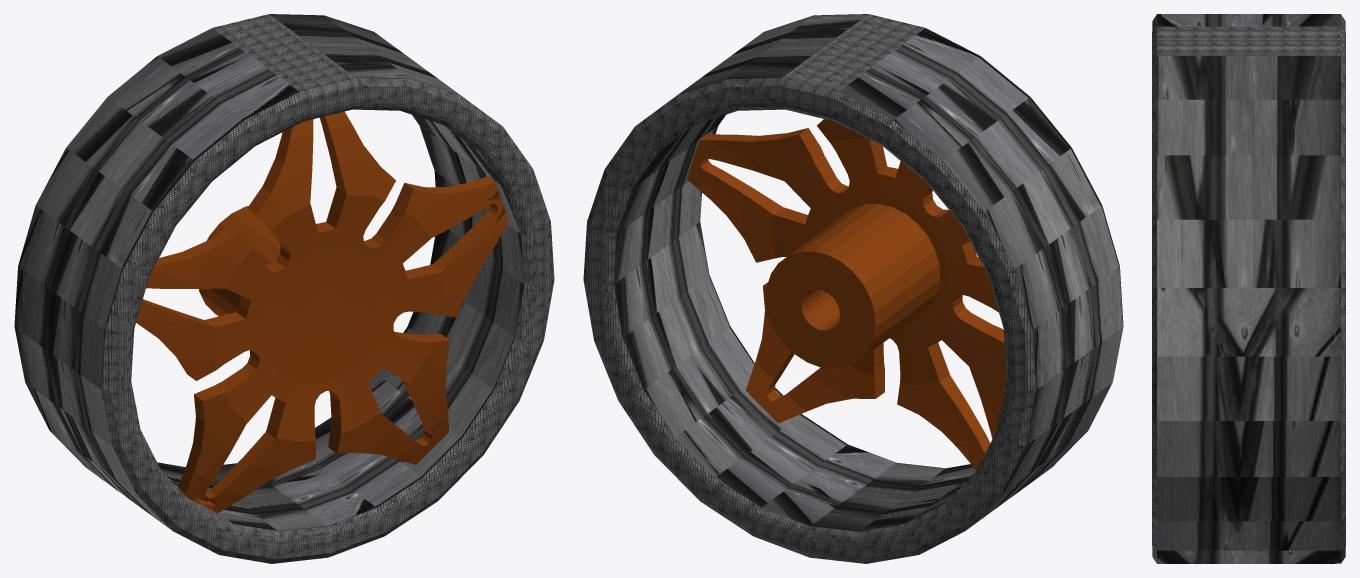
File: llantaADer.obj
3 views of the same model, side by side, from view 1: azimuth 30°, elevation 25°; view 2: azimuth 150°, elevation 25°; view 3: azimuth 270°, elevation 25° (orthographic). The views are drawn at different scales.
Visible parts, largest first — view 1: Mesh74, Mesh73; view 2: Mesh74, Mesh73; view 3: Mesh74.
Part boxes in pixels (box(x1,y1,x2,y2)): Mesh74: box(14, 14, 554, 563); Mesh73: box(136, 111, 508, 513); Mesh74: box(583, 14, 1123, 563); Mesh73: box(686, 119, 1006, 470); Mesh74: box(1152, 14, 1345, 563).
Size of the model in its own units: 30.69 by 30.63 by 10.81.
